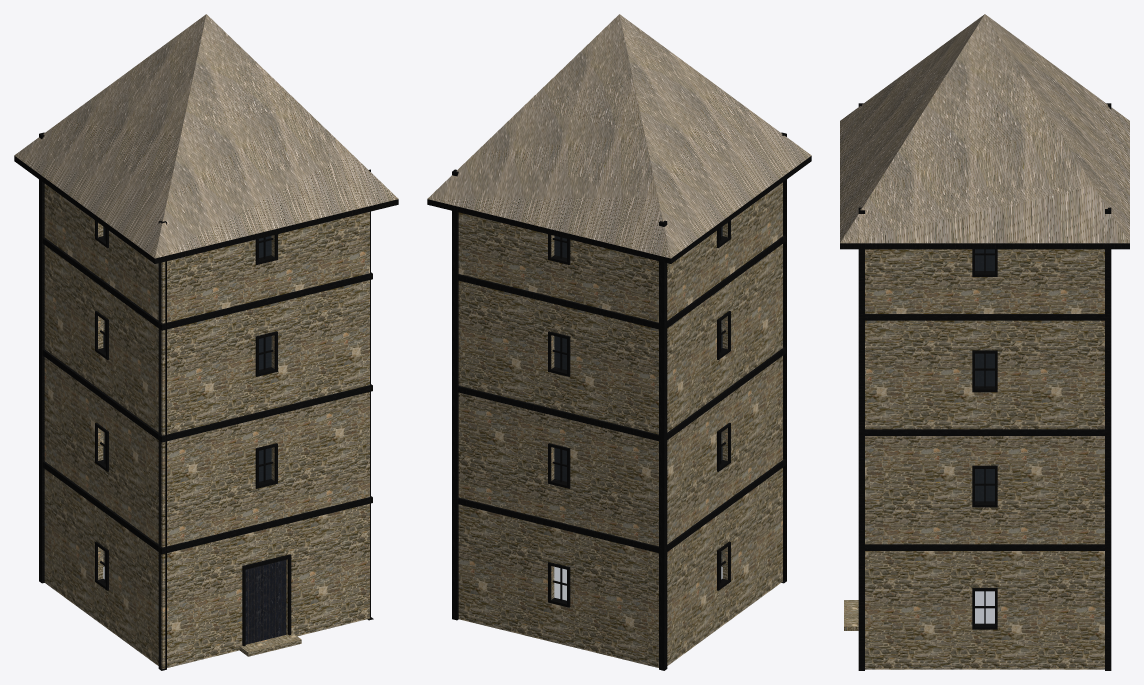
The model's file is stone_tower_01.glb.
The picture shows the model from 3 angles, left to right: view 1: azimuth 30°, elevation 25°; view 2: azimuth 150°, elevation 25°; view 3: azimuth 270°, elevation 25°; orthographic projection. The views are drawn at different scales.
Parts seen in each view (by area): view 1: stone_tower_01; view 2: stone_tower_01; view 3: stone_tower_01.
Part boxes in pixels (x1=…): stone_tower_01: x1=14, y1=14, x2=398, y2=670; stone_tower_01: x1=427, y1=14, x2=811, y2=670; stone_tower_01: x1=840, y1=14, x2=1129, y2=670.
Bounding box in the file's own units: 7.3 × 16.77 × 7.3.
Materials: 5 (4 with a texture image).
